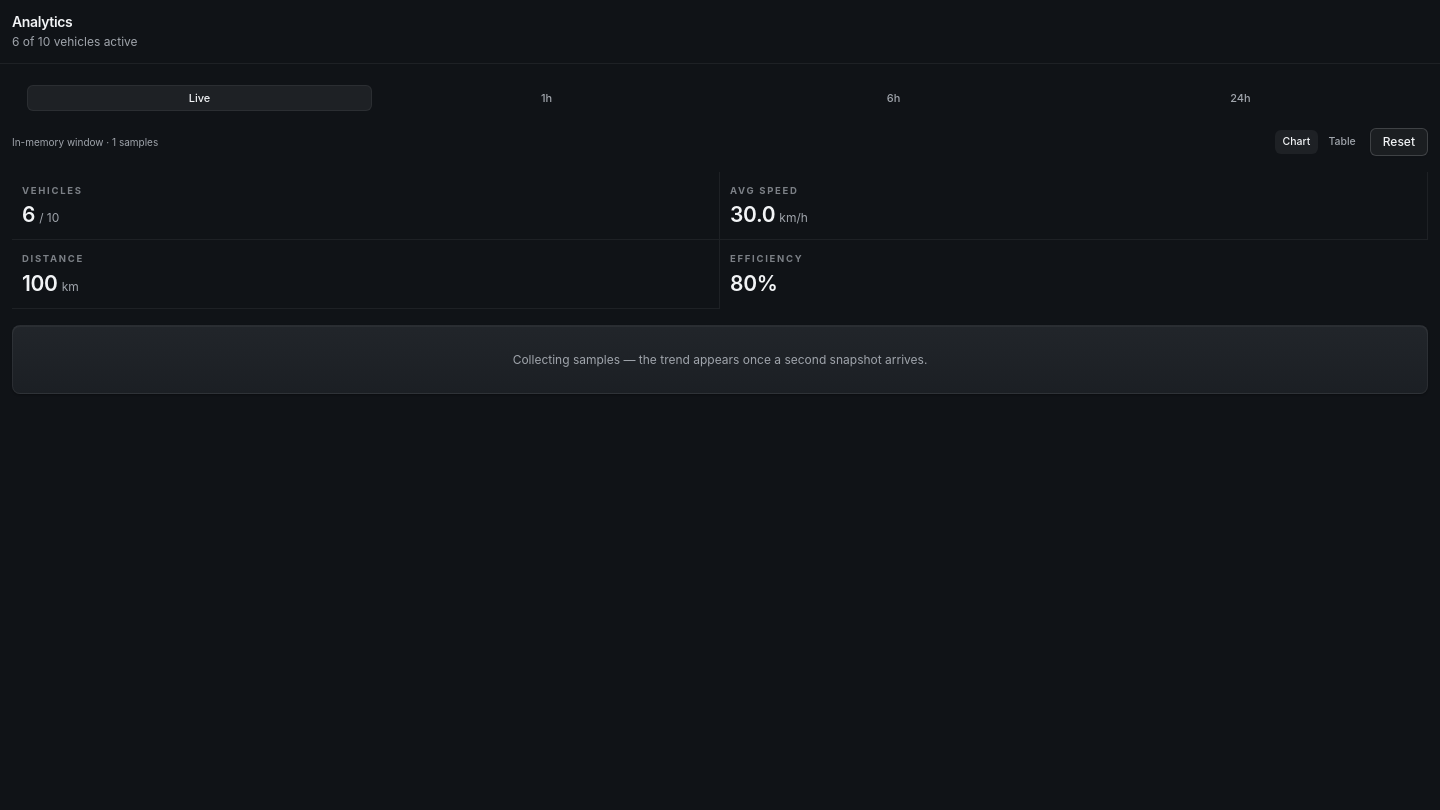
Test: AnalyticsPanel — persisted history › derives the fleet breakdown from the stored rows
Click the tab "1h": (546, 98) [374,84,719,111]
(page scrolled)
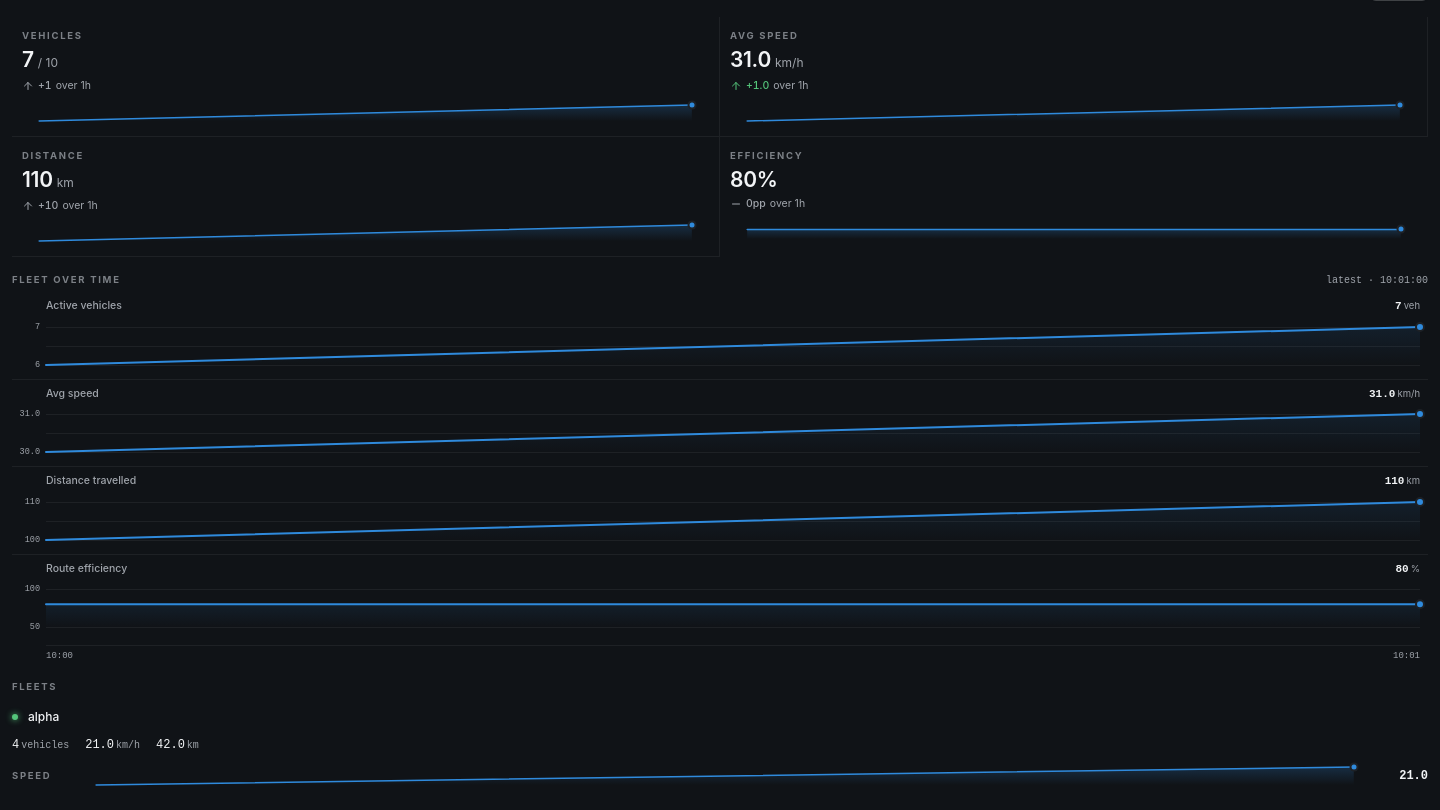
Expected: the element with test id "fleet-alpha" shows "21.0", [85,738,114,752]
